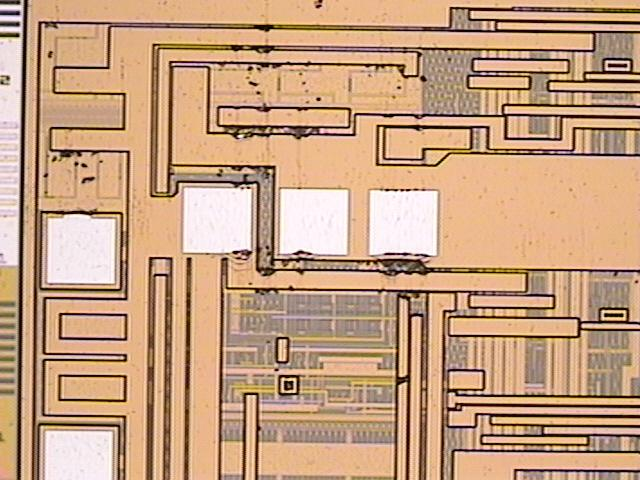PO CONTAMINATION: (40, 1, 457, 301)
